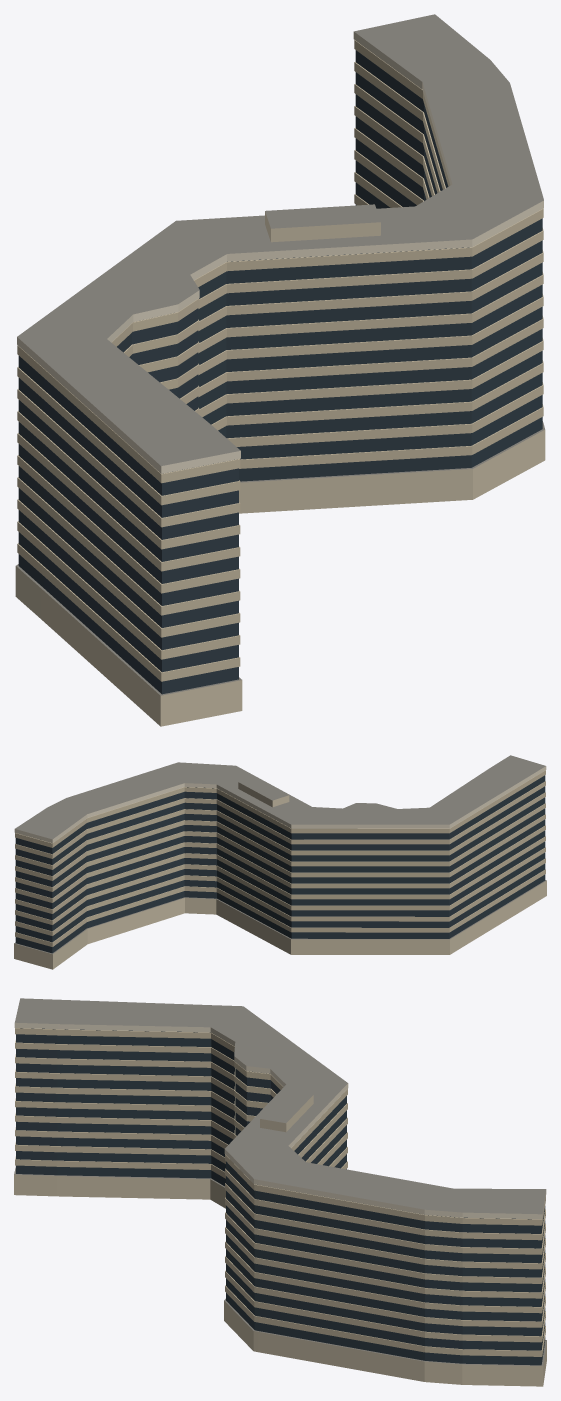
File: bldg_w543641711.glb
3 renders of one model, top to bottom at view 1: azimuth 30°, elevation 25°; view 2: azimuth 150°, elevation 25°; view 3: azimuth 270°, elevation 25°, orthographic. The views are drawn at different scales.
Visible parts, largest first — view 1: Bldg_w543641711; view 2: Bldg_w543641711; view 3: Bldg_w543641711.
Part boxes in pixels (left/top/right/bottom): Bldg_w543641711: left=15, top=14, right=545, bottom=726; Bldg_w543641711: left=14, top=755, right=546, bottom=969; Bldg_w543641711: left=14, top=998, right=546, bottom=1386.
Size of the model in its own units: 181 by 70.7 by 189.
